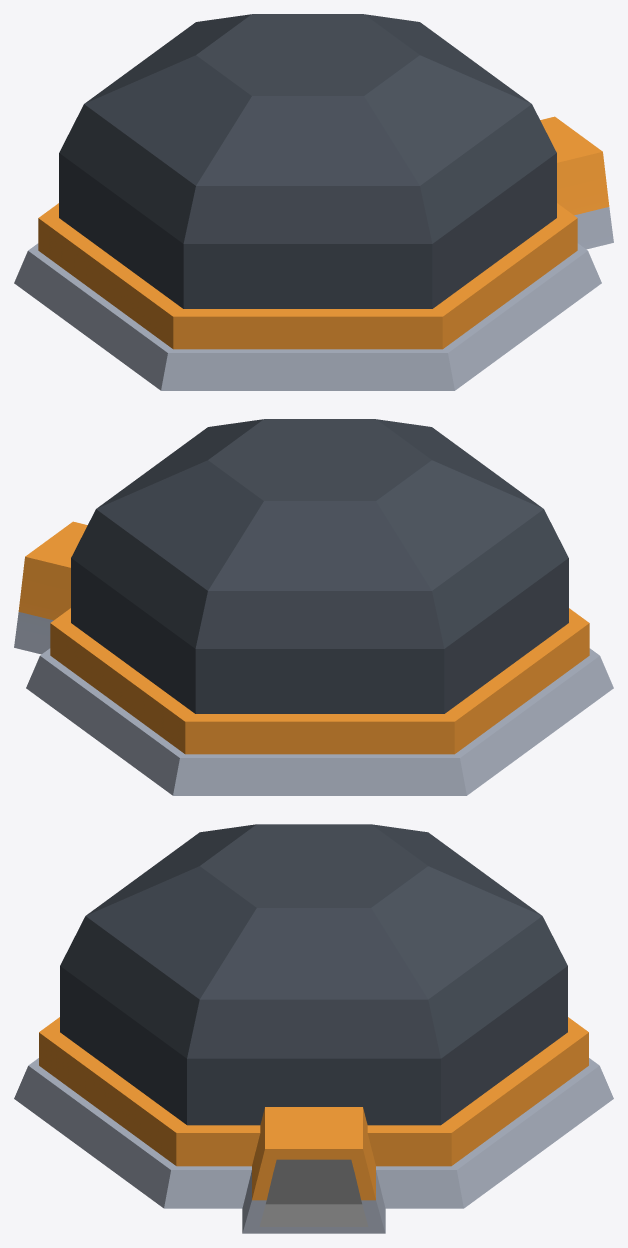
Rendered from BuildingA.obj.
3 views of the same model, one above another, from view 1: azimuth 30°, elevation 25°; view 2: azimuth 150°, elevation 25°; view 3: azimuth 270°, elevation 25° (orthographic). The views are drawn at different scales.
Parts seen in each view (by area): view 1: hangar_roundGlass BuildingGreyA, BuildingGreyA; view 2: hangar_roundGlass BuildingGreyA, BuildingGreyA; view 3: hangar_roundGlass BuildingGreyA, BuildingGreyA.
Boxes of the visible parts, box(x1,y1,x2,y2) form: hangar_roundGlass BuildingGreyA: box(14, 14, 601, 390); BuildingGreyA: box(540, 116, 613, 249); hangar_roundGlass BuildingGreyA: box(26, 419, 613, 795); BuildingGreyA: box(14, 521, 87, 654); hangar_roundGlass BuildingGreyA: box(14, 824, 613, 1208); BuildingGreyA: box(242, 1107, 385, 1233).
Size of the model in its own units: 3.16 by 1.4 by 3.27.
